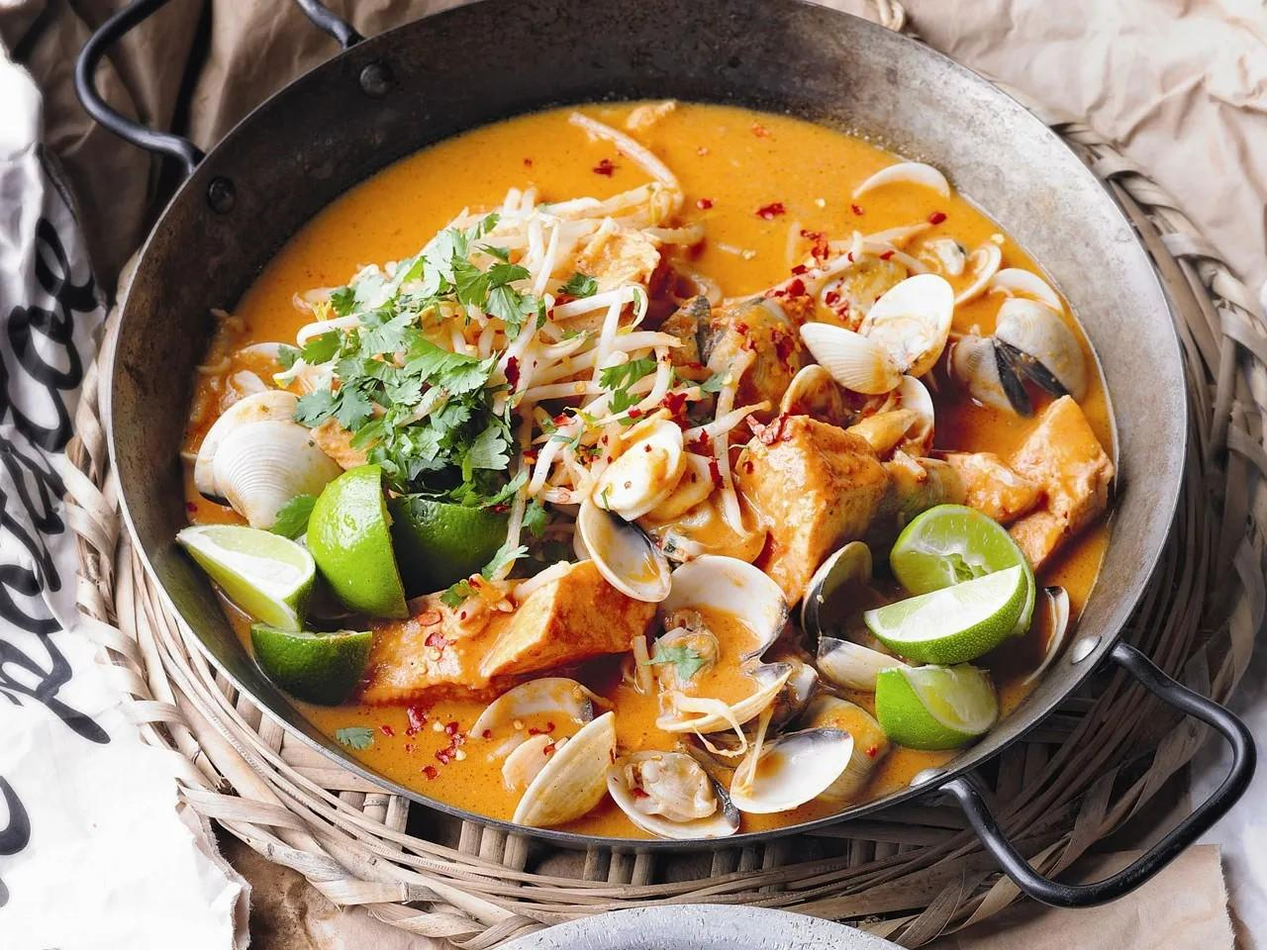FishCurry: (185, 92, 1119, 840)
